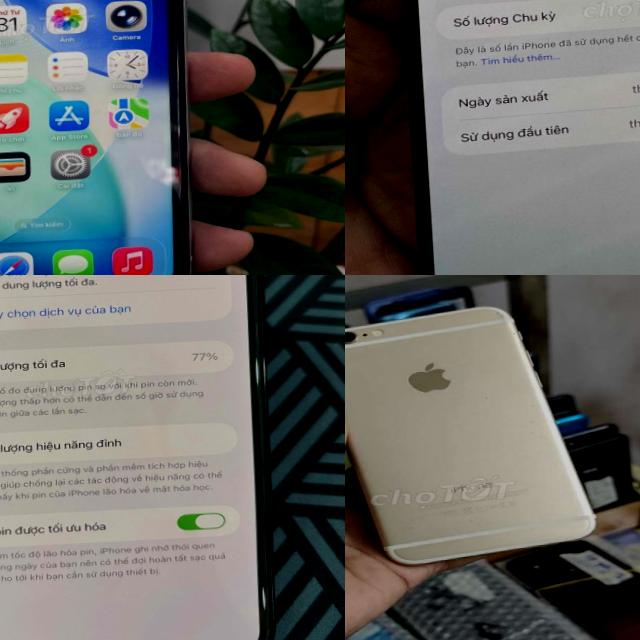scratch: (522, 416, 541, 428)
